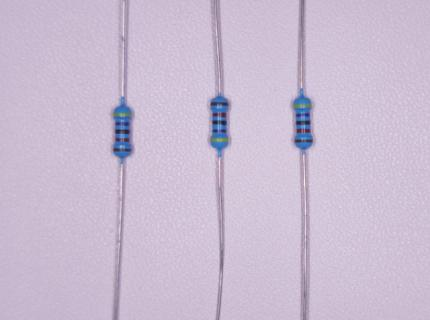Black band: (116, 129, 130, 134), (213, 120, 226, 125), (296, 121, 310, 125)
Brown band: (113, 148, 131, 152), (295, 139, 313, 143), (211, 102, 228, 106)
Red band: (296, 128, 310, 133), (116, 138, 130, 142), (213, 113, 227, 117)
Violet band: (115, 122, 130, 126), (296, 113, 310, 117), (213, 129, 226, 133)
Yellow band: (294, 104, 311, 108), (211, 138, 227, 142), (114, 113, 131, 116)
